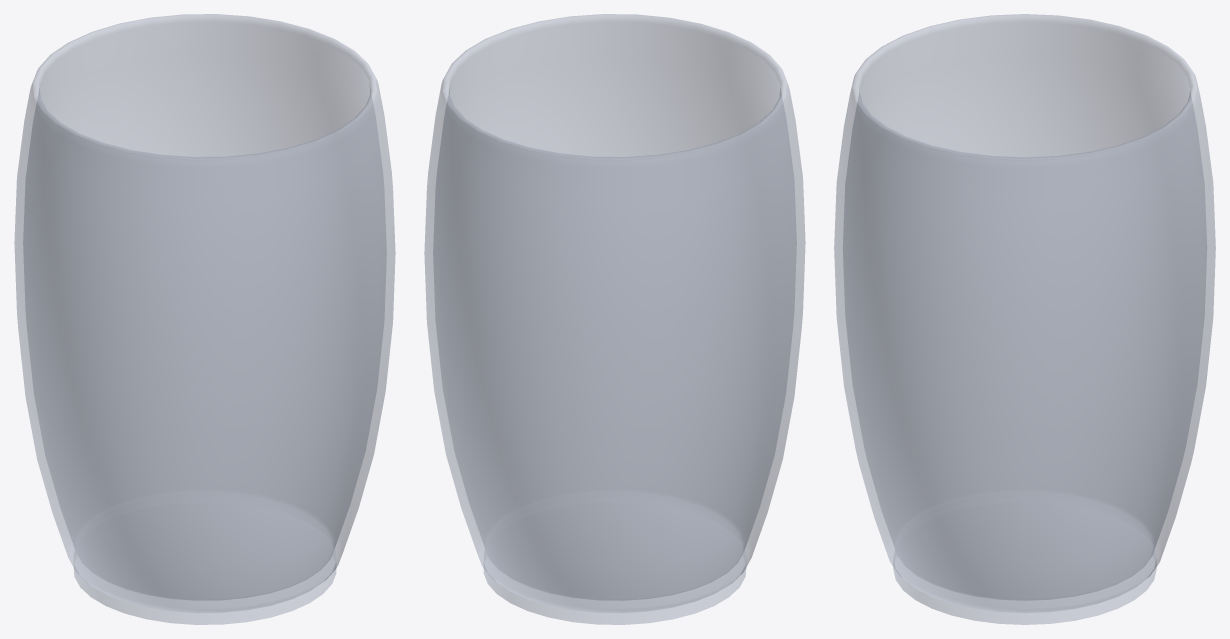
File: glass1.fbx
3 renders of one model, left to right at view 1: azimuth 30°, elevation 25°; view 2: azimuth 150°, elevation 25°; view 3: azimuth 270°, elevation 25°, orthographic.
Parts seen in each view (by area): view 1: Cylinder.007; view 2: Cylinder.007; view 3: Cylinder.007.
Boxes of the visible parts, left/top/right/bottom form: Cylinder.007: left=14, top=14, right=395, bottom=624; Cylinder.007: left=424, top=14, right=805, bottom=624; Cylinder.007: left=834, top=14, right=1215, bottom=624.
Size of the model in its own units: 61.07 by 85.51 by 61.07.
